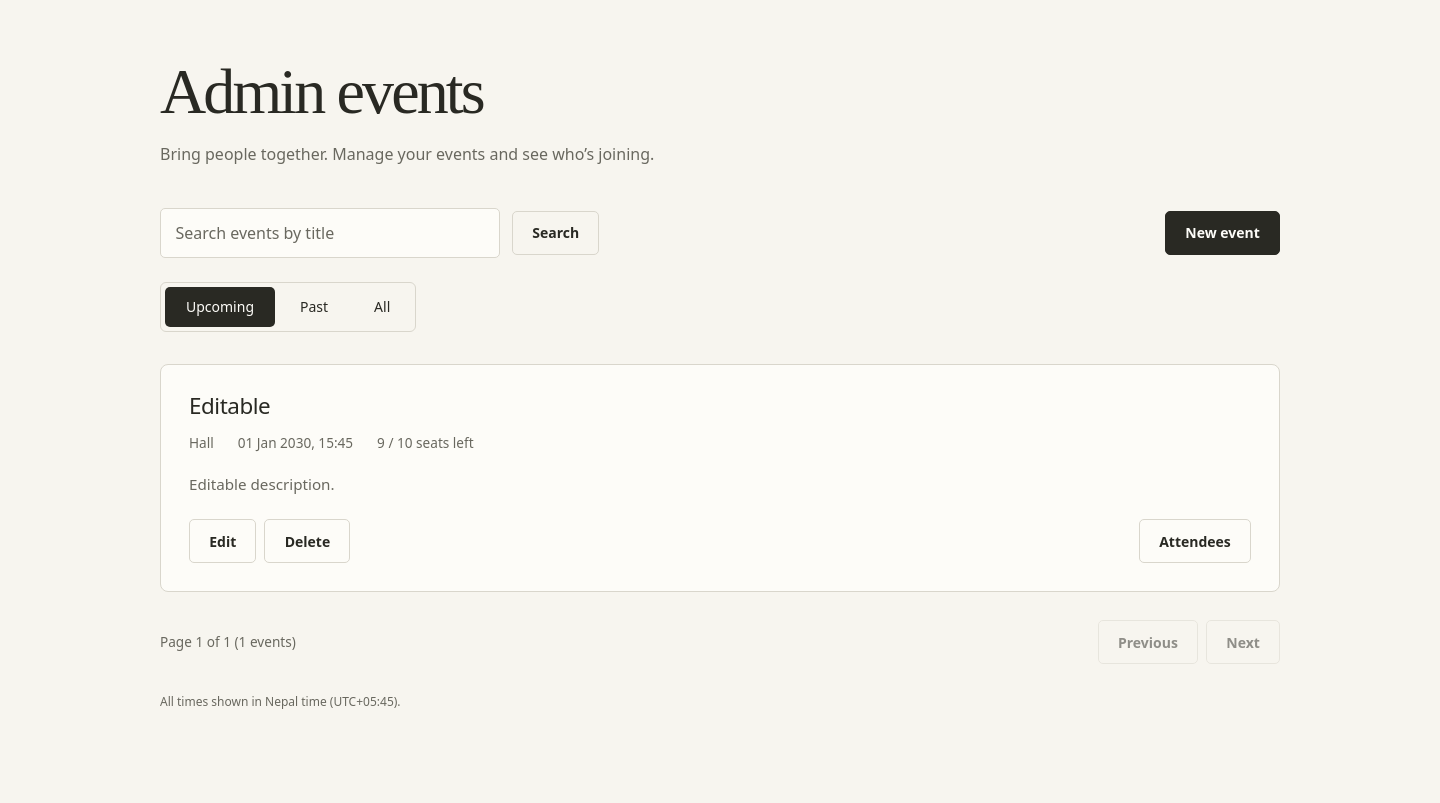
Test case: admin time filter › refetches the active filter after an edit instead of serving the cached rows
Expected: the heading "Editable" is shown, 189,390 -> 270,421
Click the button "Edit" at (223, 541), box 189,519 -> 256,563
(page scrolled)
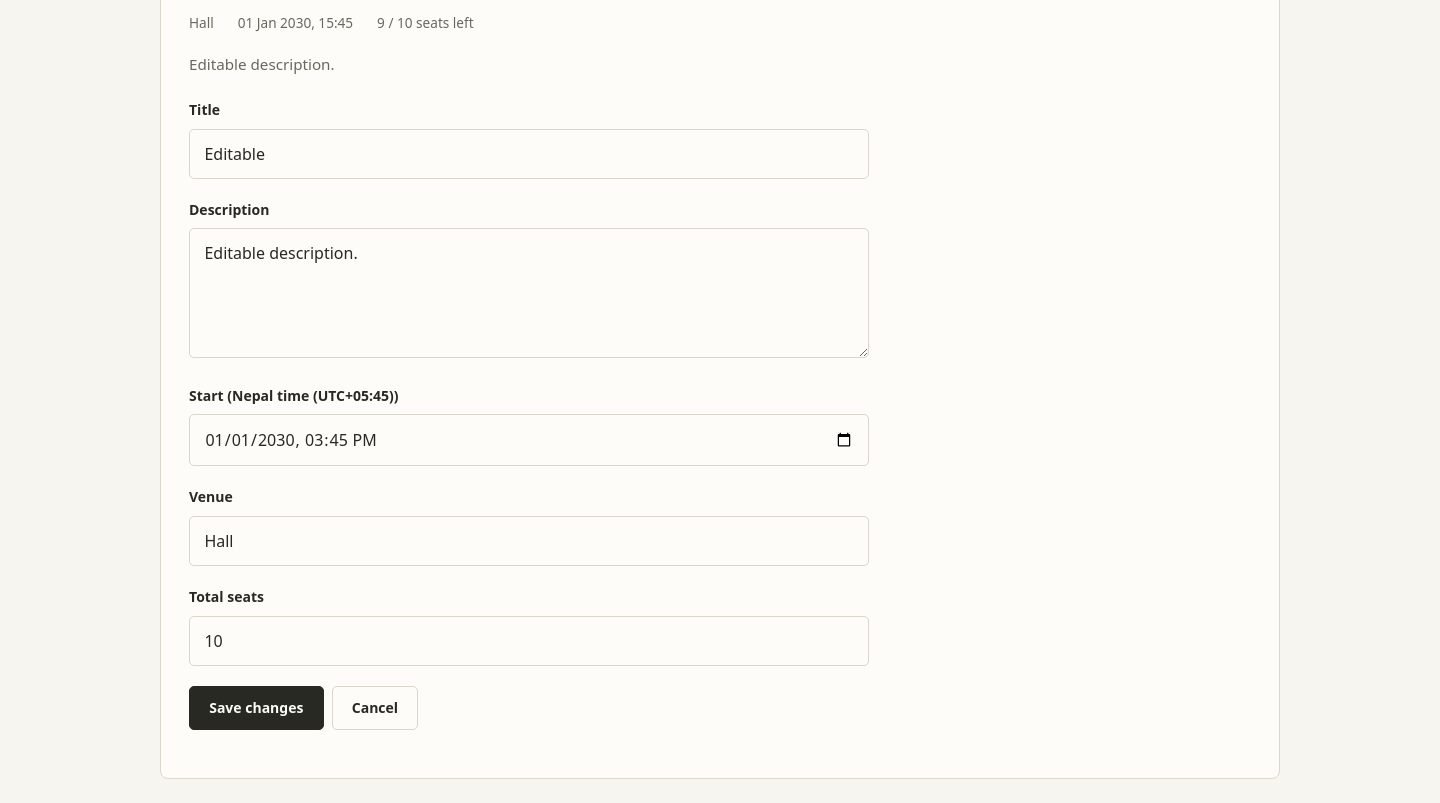
Submit the form "Save changes", box 189,99 -> 869,730
(page scrolled)
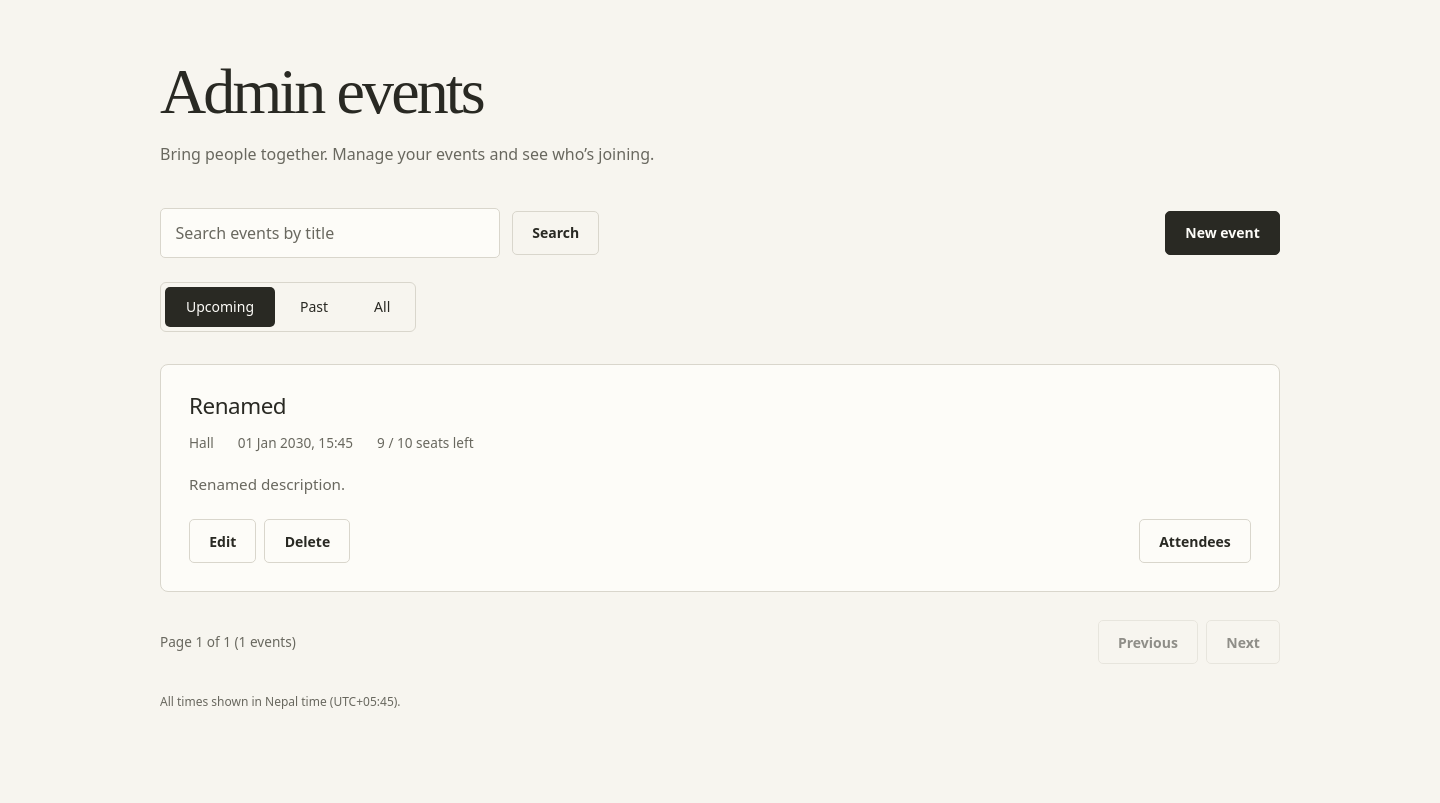
Expected: the heading "Renamed" is shown, 189,390 -> 286,421
